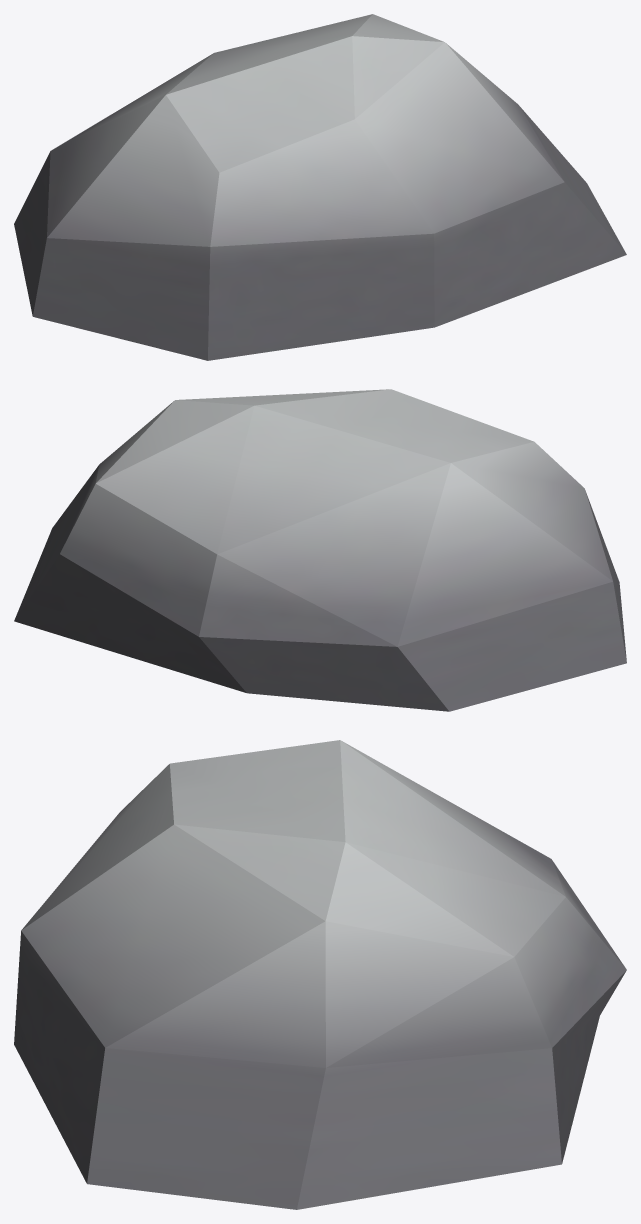
File: Flat_Rock_C_Snow.obj
The picture shows the model from 3 angles, top to bottom: view 1: azimuth 30°, elevation 25°; view 2: azimuth 150°, elevation 25°; view 3: azimuth 270°, elevation 25°; orthographic projection. The views are drawn at different scales.
Parts seen in each view (by area): view 1: Flat_Rock_C_Snow; view 2: Flat_Rock_C_Snow; view 3: Flat_Rock_C_Snow.
Boxes of the visible parts, x1,y1,x2,y2 form: Flat_Rock_C_Snow: [14, 14, 626, 360]; Flat_Rock_C_Snow: [14, 389, 626, 711]; Flat_Rock_C_Snow: [14, 740, 626, 1209].
Size of the model in its own units: 0.2941 by 0.0946 by 0.222.
